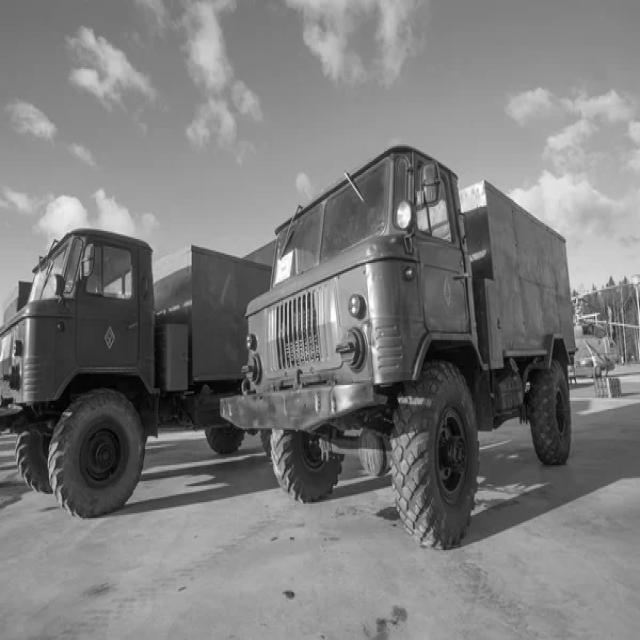Truck: (221, 144, 576, 548), (0, 230, 271, 518)
